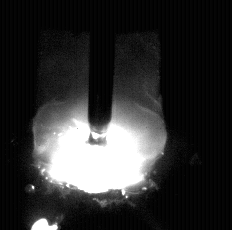arame: (88, 0, 114, 133)
poca: (32, 0, 166, 230)
